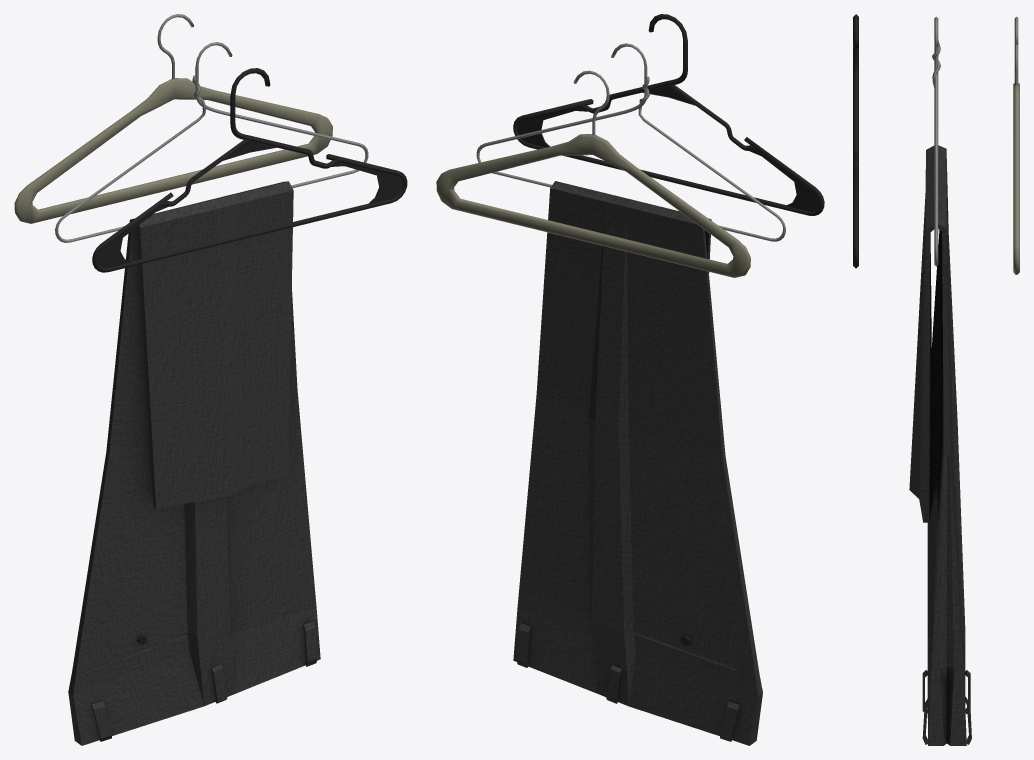
Rendered from manequin_statue.glb.
The picture shows the model from 3 angles, left to right: view 1: azimuth 30°, elevation 25°; view 2: azimuth 150°, elevation 25°; view 3: azimuth 270°, elevation 25°; orthographic projection. The views are drawn at different scales.
Parts seen in each view (by area): view 1: Object_4, Object_2, Object_5, Object_3; view 2: Object_4, Object_2, Object_5, Object_3; view 3: Object_4, Object_3, Object_5, Object_2.
Part boxes in pixels (x1,y1,x2,y2): Object_4: [68, 181, 320, 745]; Object_2: [14, 78, 332, 223]; Object_5: [92, 68, 407, 644]; Object_3: [55, 14, 368, 242]; Object_4: [513, 181, 762, 745]; Object_2: [436, 134, 750, 277]; Object_5: [513, 14, 824, 645]; Object_3: [476, 43, 785, 241]; Object_4: [909, 145, 971, 745]; Object_3: [932, 16, 1018, 266]; Object_5: [853, 14, 858, 268]; Object_2: [1013, 83, 1019, 274].
Bounding box in the file's own units: 4.82 × 9.78 × 2.08.
4 materials, 1 textured.
